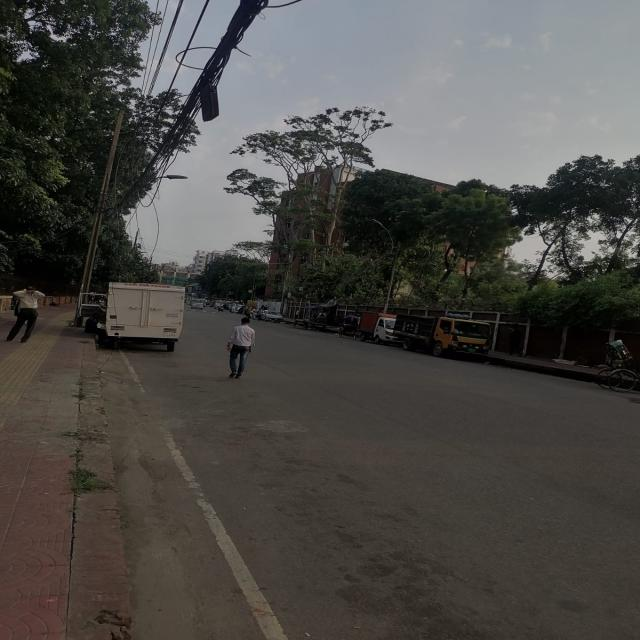person: (227, 317, 255, 379)
